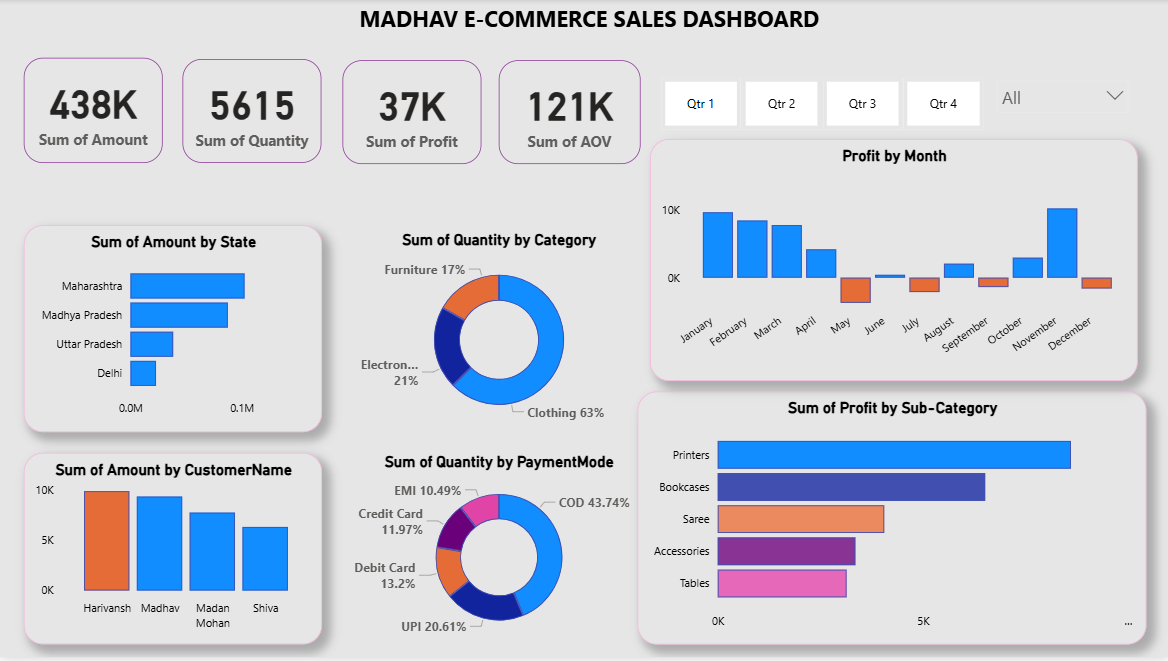

Layout of this report page (visuals, bound fields, positions):
{"tool":"powerbi","page":{"name":"Page 1","canvas":[1280,720],"ordinal":0},"visuals":[{"type":"textbox","box":[9.6,0,1270.7,65.9],"z":0},{"type":"columnChart","title":"Profit by Month","fields":{"Y":["Details.Profit"],"Category":["Orders.Order Date.Variation.Date Hierarchy.Month"]},"box":[710.8,153.7,533.8,264.8],"z":1000},{"type":"barChart","fields":{"Category":["Details.Sub-Category"],"Y":["Details.Profit"]},"box":[697.1,429.5,557.1,277.2],"z":2000},{"type":"donutChart","fields":{"Category":["Details.Category"],"Y":["Details.Quantity"]},"box":[395.2,252.5,301.9,220.9],"z":3000},{"type":"donutChart","fields":{"Y":["Details.Quantity"],"Category":["Details.PaymentMode"]},"box":[369.1,496.7,354,209.9],"z":4000},{"type":"card","fields":{"Values":["Details.Amount"]},"box":[26.1,64.5,152.3,115.3],"z":5000},{"type":"card","fields":{"Values":["Details.Quantity"]},"box":[200.3,65.9,152.3,113.9],"z":6000},{"type":"card","fields":{"Values":["Details.Profit"]},"box":[374.6,67.2,152.3,113.9],"z":7000},{"type":"card","fields":{"Values":["Details.AOV"]},"box":[546.1,67.2,155.1,113.9],"z":8000},{"type":"barChart","fields":{"Category":["Orders.State"],"Y":["Details.Amount"]},"box":[26.1,247,326.6,226.4],"z":9000},{"type":"columnChart","fields":{"Category":["Orders.CustomerName"],"Y":["Details.Amount"]},"box":[26.1,496.7,326.6,209.9],"z":10000},{"type":"slicer","fields":{"Values":["Orders.Order Date.Variation.Date Hierarchy.Quarter"]},"box":[697.1,79.6,402.1,70],"z":11000},{"type":"slicer","fields":{"Values":["Orders.State"]},"box":[1079.9,79.6,164.7,68.6],"z":12000}]}

Visuals, with their boxes in screenshot pixels (x1, y1, x2, y2), scaled from the page's 1280x720 canvas onto the 1168x661 screenshot:
textbox: [left=9, top=0, right=1167, bottom=60]
"Profit by Month" columnChart: [left=649, top=141, right=1136, bottom=384]
barChart - Details.Sub-Category x Details.Profit: [left=636, top=394, right=1144, bottom=649]
donutChart - Details.Category x Details.Quantity: [left=361, top=232, right=636, bottom=435]
donutChart - Details.Quantity x Details.PaymentMode: [left=337, top=456, right=660, bottom=649]
card - Details.Amount: [left=24, top=59, right=163, bottom=165]
card - Details.Quantity: [left=183, top=60, right=322, bottom=165]
card - Details.Profit: [left=342, top=62, right=481, bottom=166]
card - Details.AOV: [left=498, top=62, right=640, bottom=166]
barChart - Orders.State x Details.Amount: [left=24, top=227, right=322, bottom=435]
columnChart - Orders.CustomerName x Details.Amount: [left=24, top=456, right=322, bottom=649]
slicer - Orders.Order Date.Variation.Date Hierarchy.Quarter: [left=636, top=73, right=1003, bottom=137]
slicer - Orders.State: [left=985, top=73, right=1136, bottom=136]
